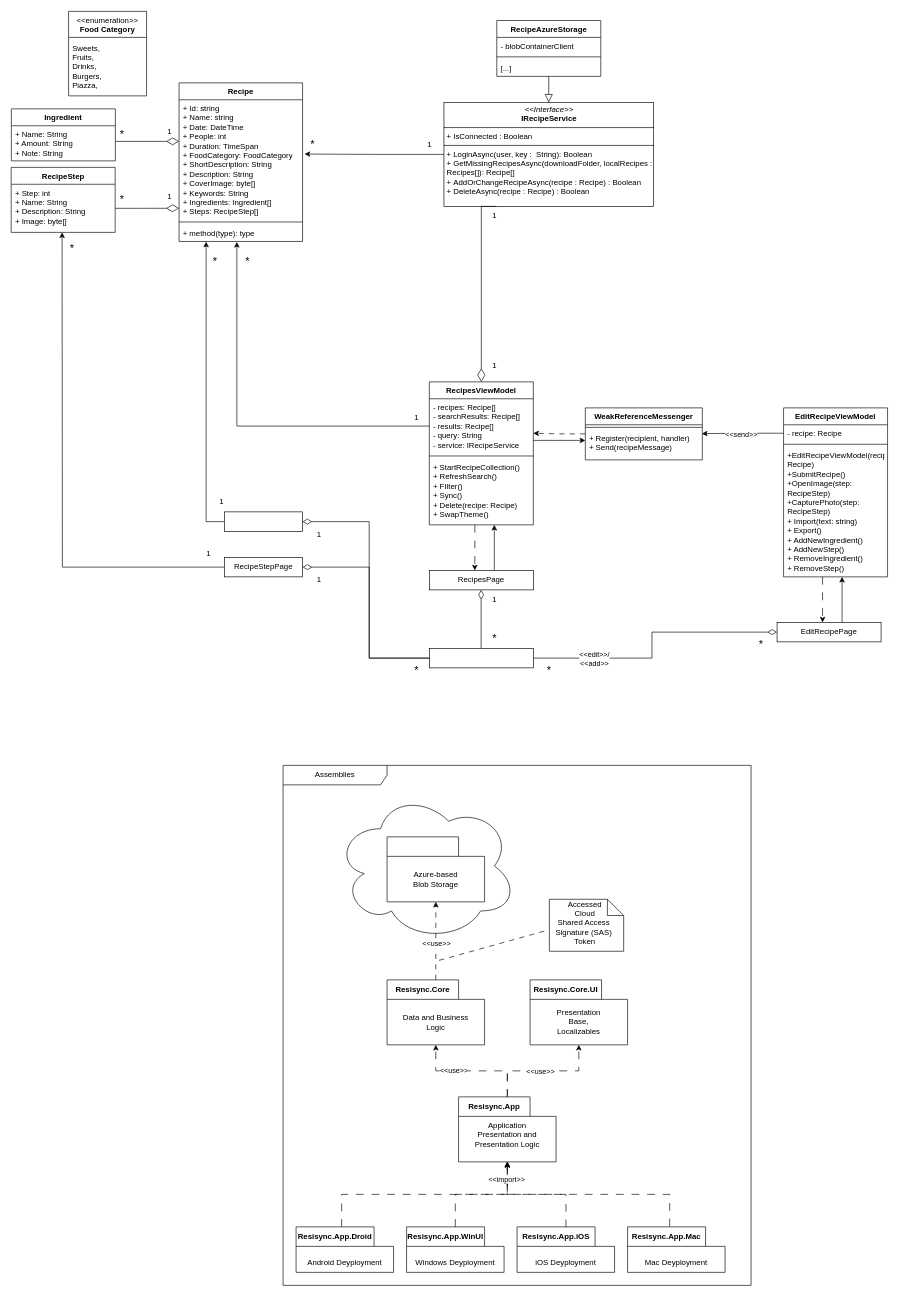
The diagram is 904 pixels wide and 1297 high, and some of its shapes have lost their labels. Here are the shapes that lost their labels. From the top down, the centre of each, then its label:
pixel 263 521: RecipeDetailPage
pixel 481 658: NavigationBehavior
pixel 435 869: Azure
